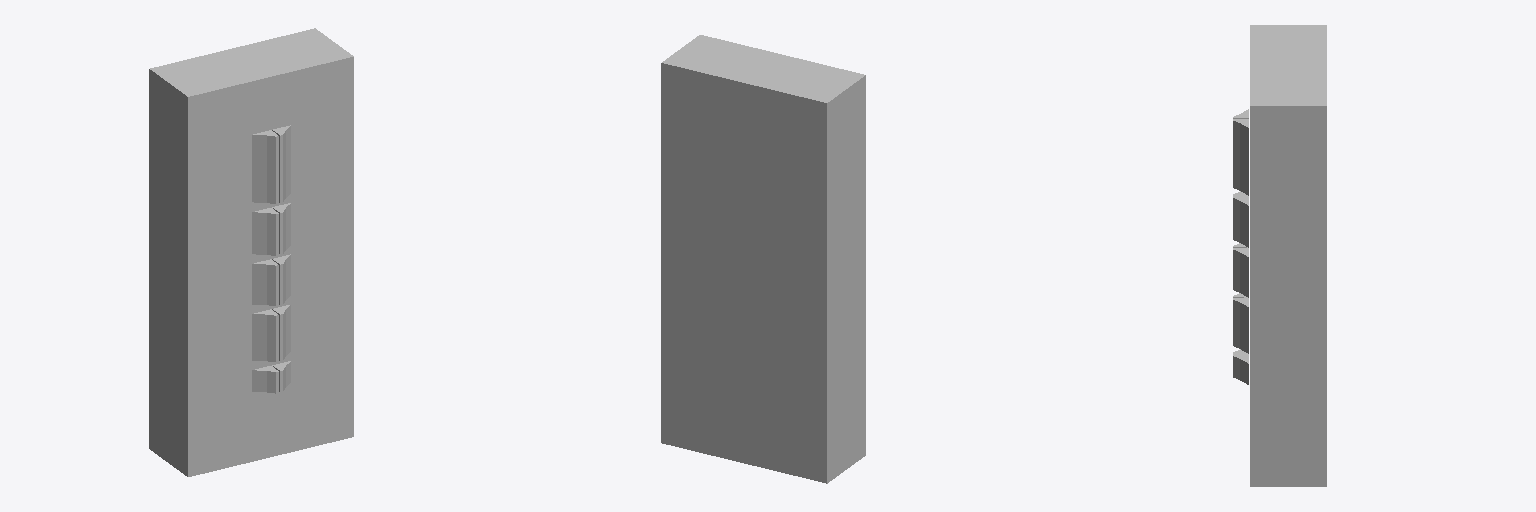
Rendered from phantom_collision.OBJ.
3 renders of one model, left to right at view 1: azimuth 30°, elevation 25°; view 2: azimuth 150°, elevation 25°; view 3: azimuth 270°, elevation 25°, orthographic.
Parts seen in each view (by area): view 1: phantom_collision_Plane.005; view 2: phantom_collision_Plane.005; view 3: phantom_collision_Plane.005.
Boxes of the visible parts, box(x1,y1,x2,y2) form: phantom_collision_Plane.005: box(149, 28, 353, 476); phantom_collision_Plane.005: box(661, 35, 865, 483); phantom_collision_Plane.005: box(1233, 25, 1326, 486).
Bounding box in the file's own units: 0.7892 × 1.73 × 0.3891.